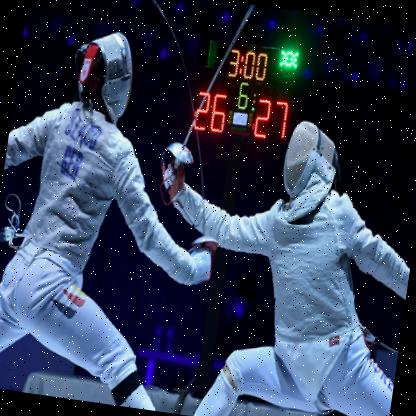fencer: (0, 10, 252, 415), (119, 92, 415, 415)
